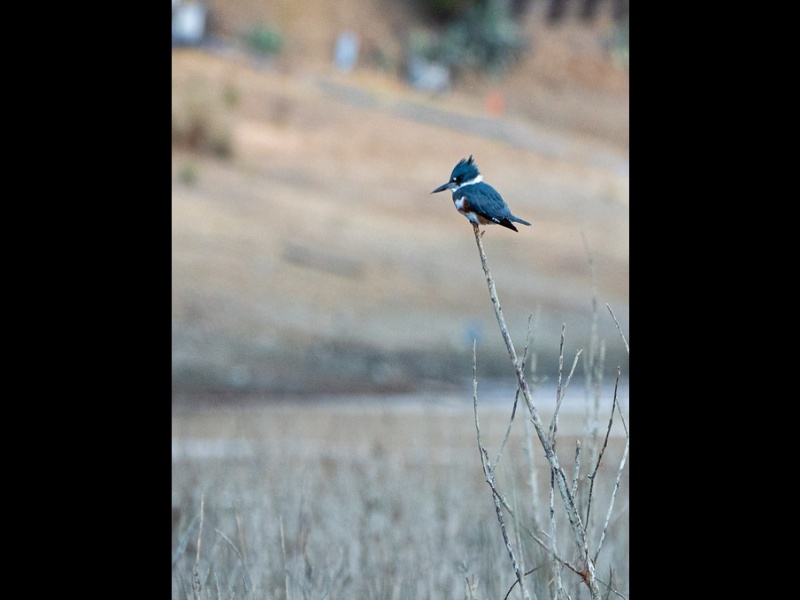kingfisher: (426, 153, 531, 236)
